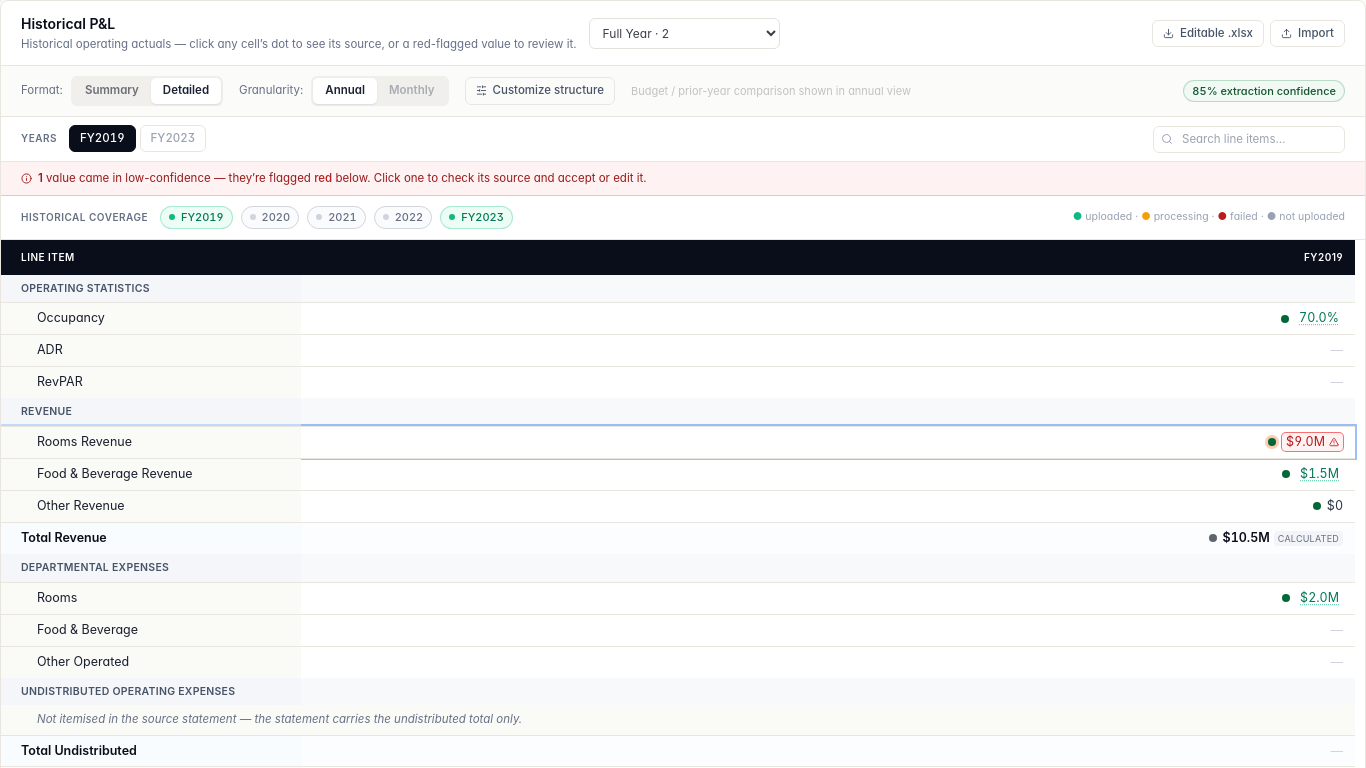
Historicals worksheet — SOURCE panel is pinned to the column’s own document › a flagged 2019 cell names the 2019 statement — even though 2023 carries the same field name
The image size is (1366, 768).
Click the button "$9.0M" at (1313, 442), box [1282,433,1343,451]
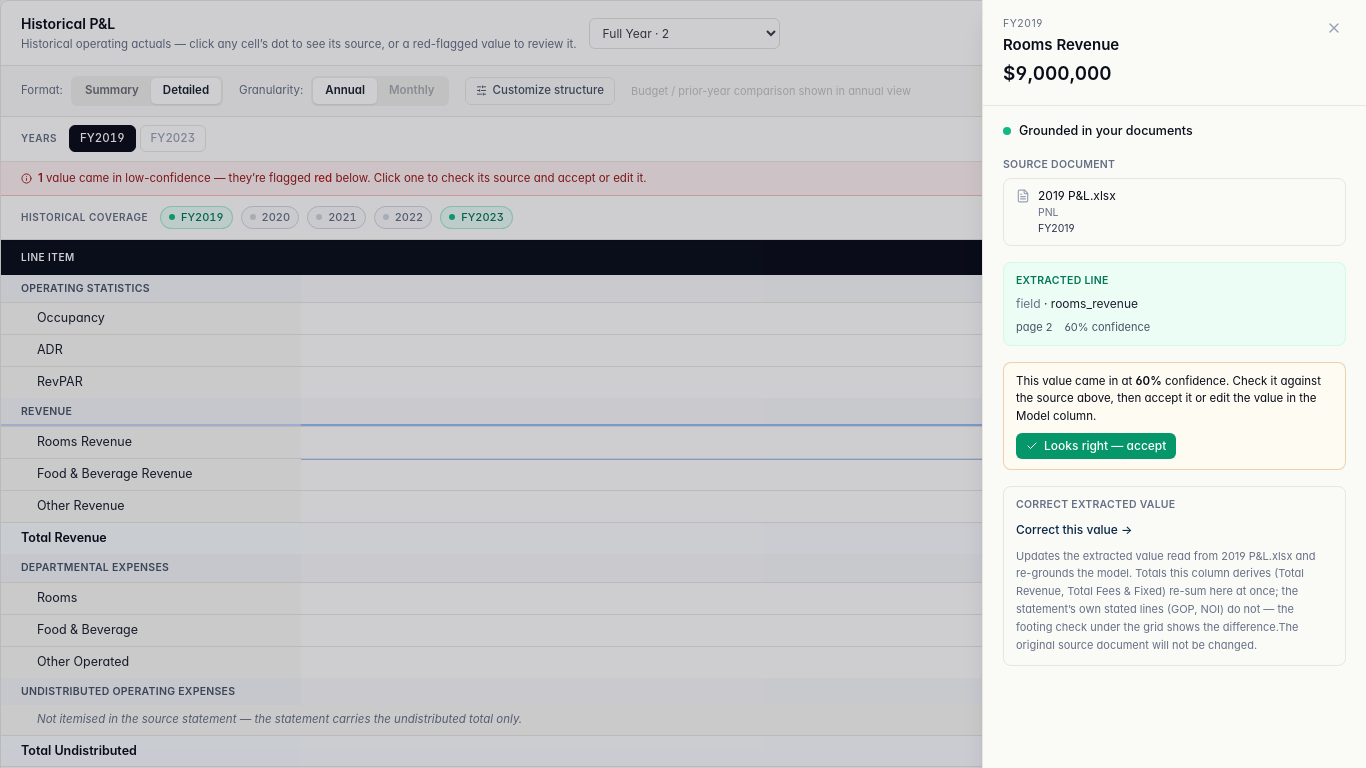
Check: the text "2019 P&L.xlsx" is shown, box [1038,187,1116,205]
Check: the text "60% confidence" is shown, box [1064,318,1150,335]
